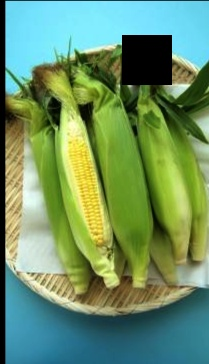corn: (62, 121, 106, 252)
corn_plant: (9, 97, 90, 288), (81, 68, 148, 267), (134, 82, 190, 255)
